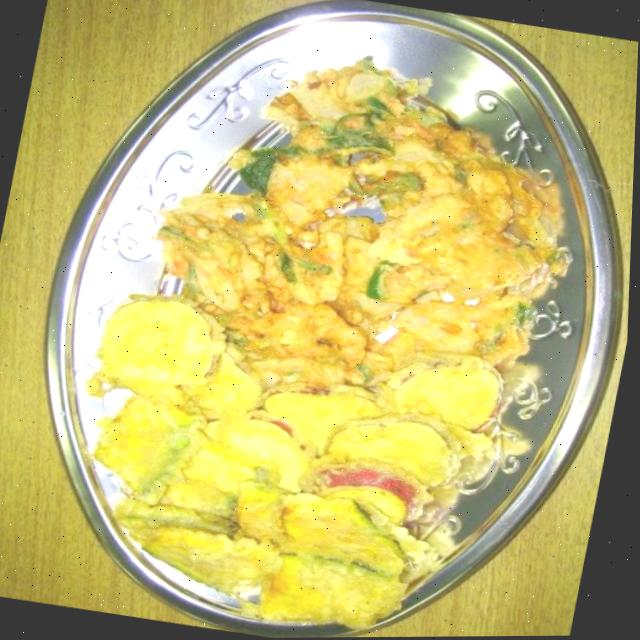蔬菜料理: (51, 10, 633, 640)
